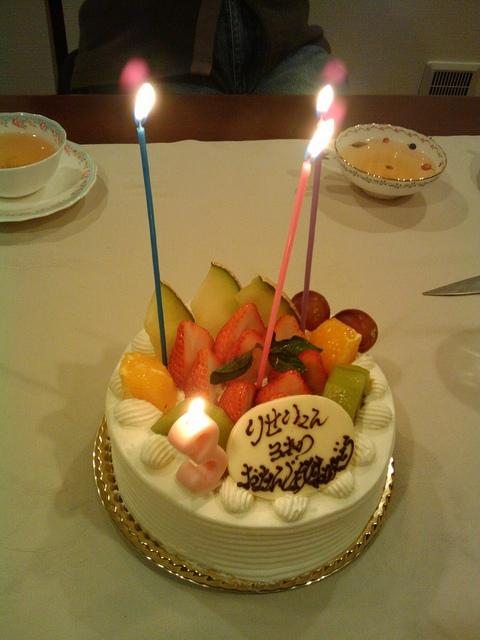grape: (332, 308, 378, 354), (292, 291, 330, 332)
kiwi: (151, 397, 234, 454), (190, 262, 242, 344), (234, 275, 301, 329), (323, 364, 371, 426)
strawberry: (168, 319, 216, 392), (214, 302, 267, 363), (224, 328, 273, 388), (267, 350, 328, 396), (184, 348, 225, 404), (255, 369, 314, 404), (218, 380, 258, 426), (274, 314, 307, 342)
